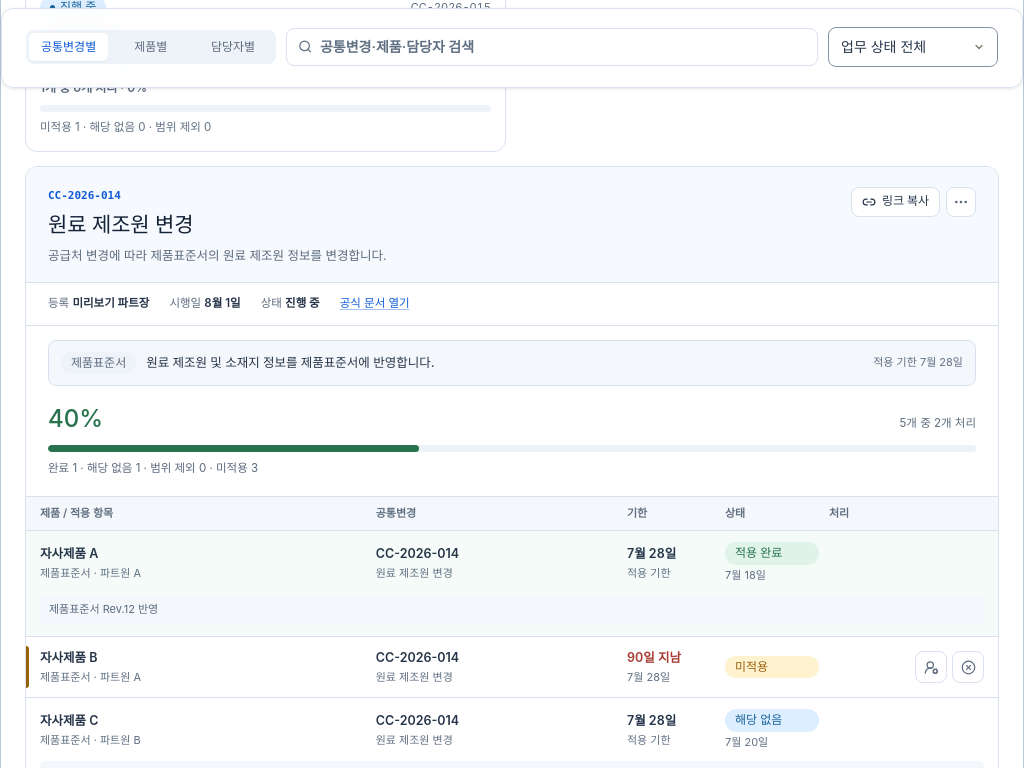
Test: ChangeApplicationsPanel › closes an open detail menu when another common change is selected
(page scrolled)
Click the button named "CC-2026-014 더보기" at (961, 202), box [946,187,976,217]
(page scrolled)
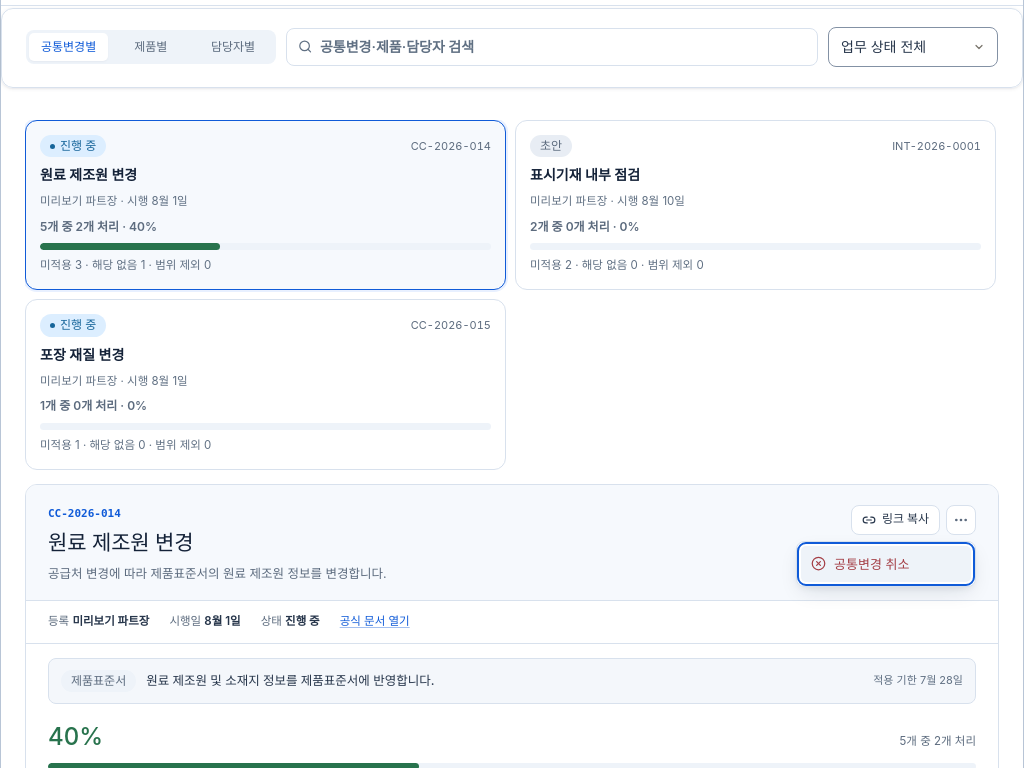
Result: the menu item "공통변경 취소" is shown at [801,546,971,582]
Click the button "CC-2026-015" at (73, 326), box [25,299,506,470]
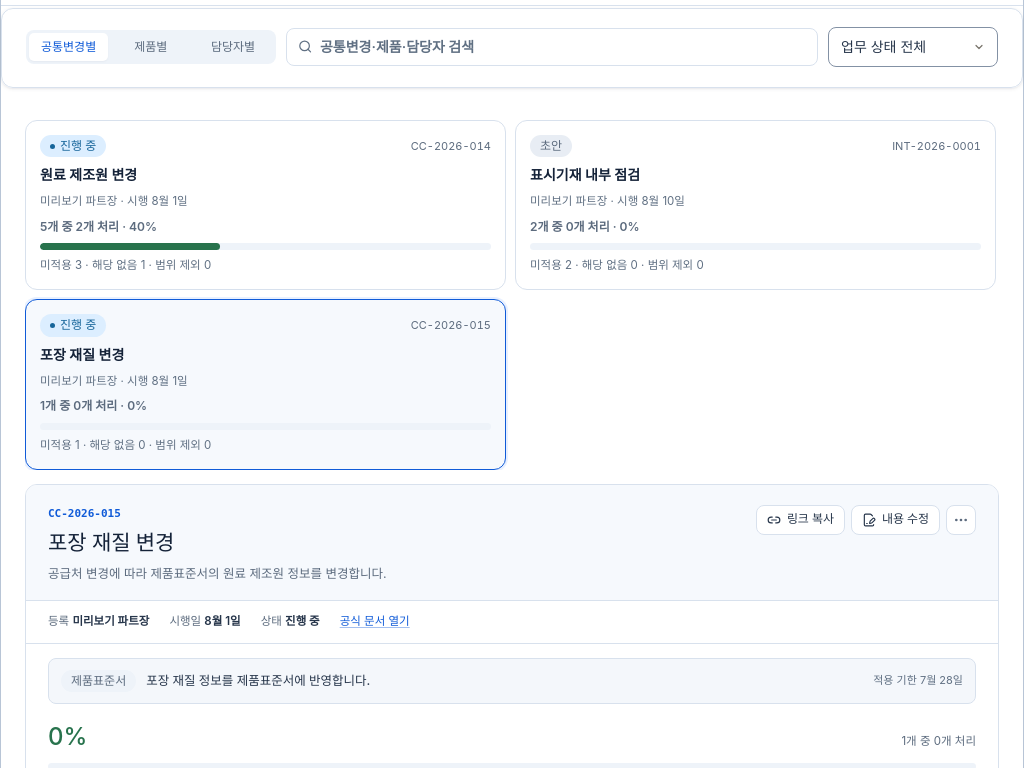
Result: the menu item "공통변경 취소" is gone
